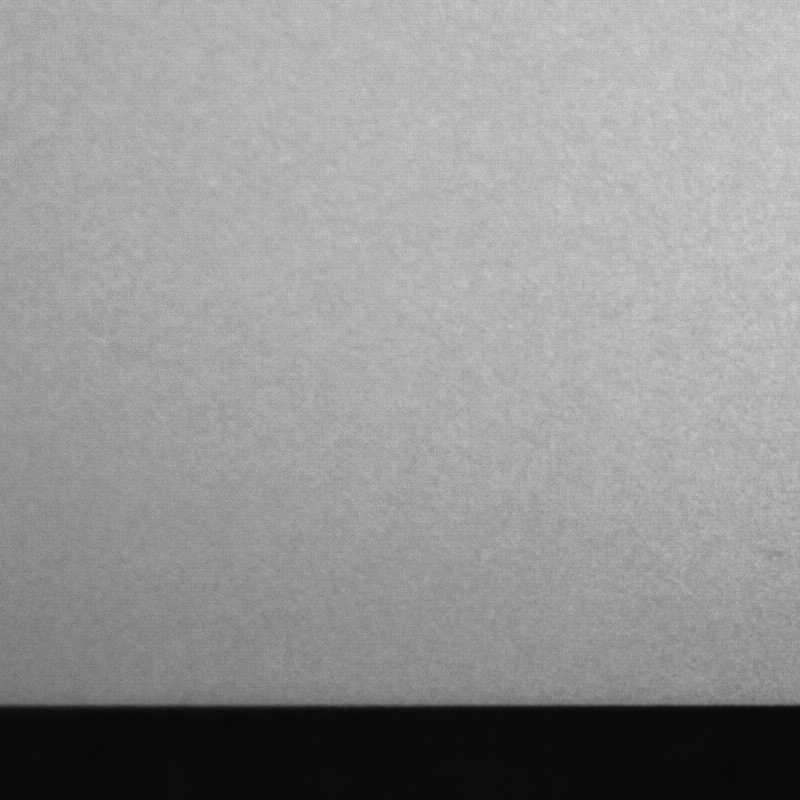defect: (769, 542, 796, 571)
